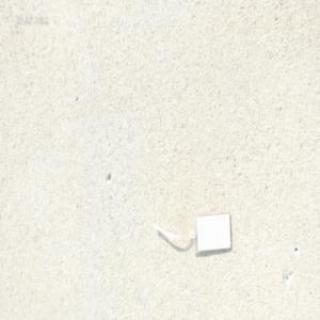LuggageTagtrack_idkeyframe: (152, 209, 232, 255)
